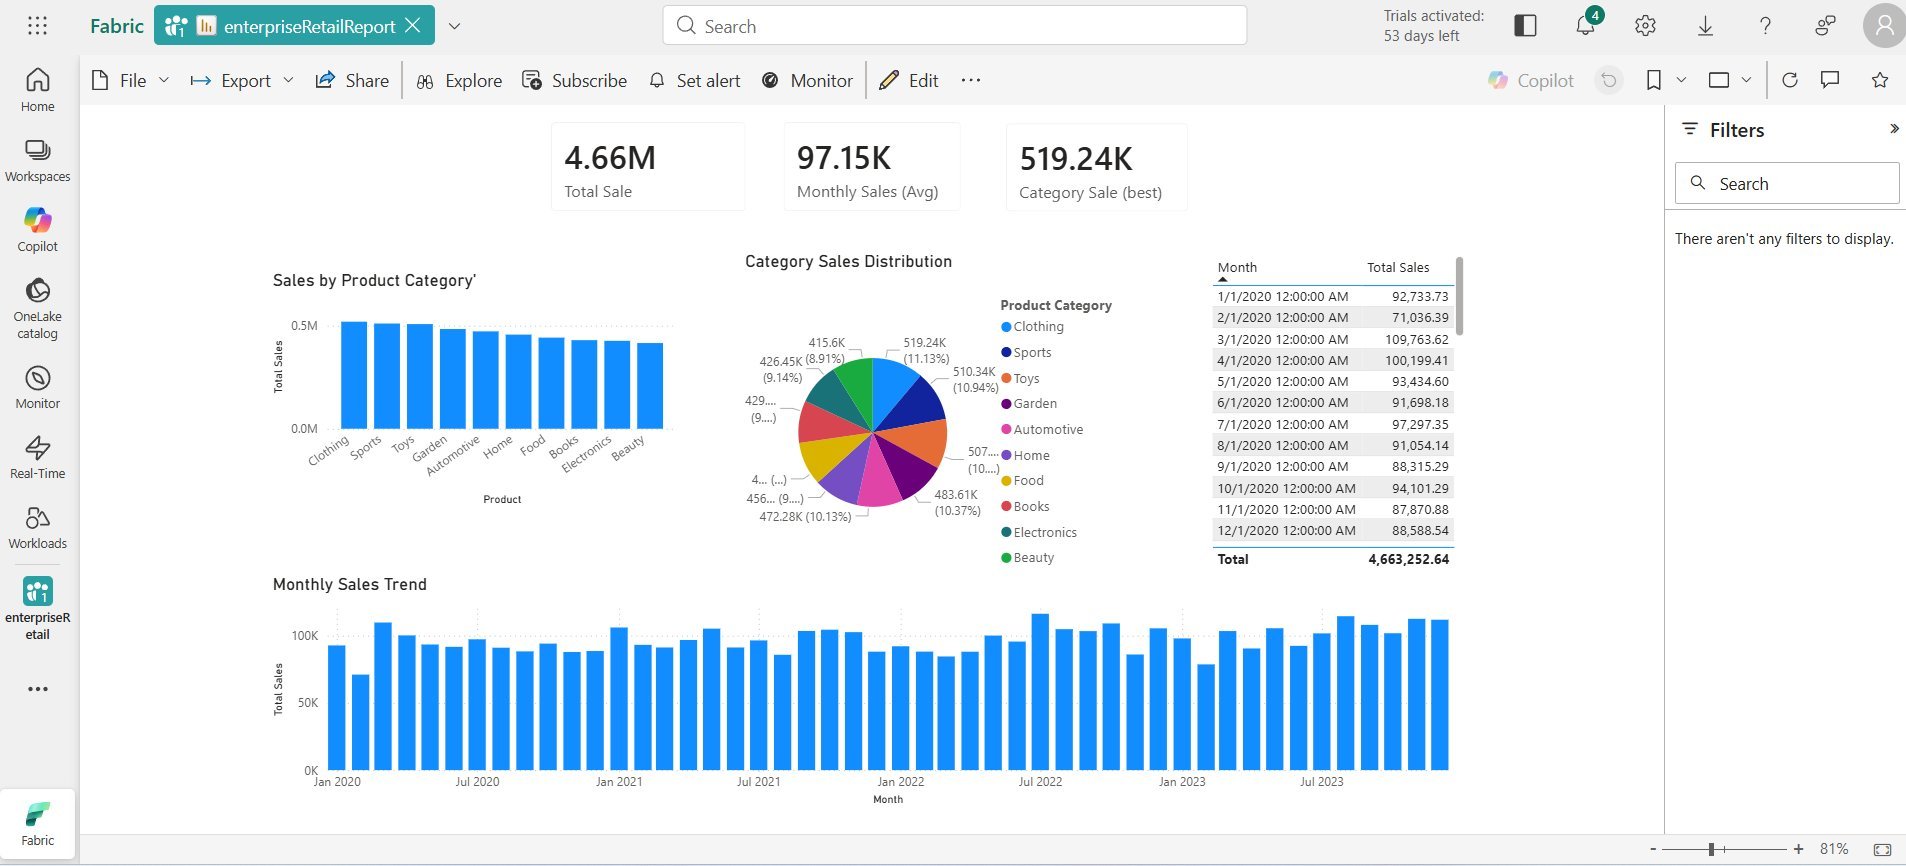

The page's visual inventory and layout, read from the dashboard file:
{"tool":"powerbi","page":{"name":"Page 1","canvas":[1280,720],"ordinal":0},"visuals":[{"type":"cardVisual","fields":{"Data":["Sum(category_sales.category_total_sales)"]},"box":[306.7,0,226.2,123],"z":0},{"type":"cardVisual","fields":{"Data":["monthly_sales.Avg Monthly Sales"]},"box":[535.7,0,209.7,122.7],"z":1},{"type":"cardVisual","fields":{"Data":["category_sales.Best Category Sales"]},"box":[755.6,1.3,214.8,121.5],"z":2},{"type":"pieChart","title":"Category Sales Distribution","fields":{"Category":["category_sales.product_category"],"Y":["Sum(category_sales.category_total_sales)"]},"box":[510.1,144.5,386.1,337.5],"z":3},{"type":"columnChart","title":"Monthly Sales Trend","fields":{"Category":["monthly_sales.sales_month"],"Y":["Sum(monthly_sales.monthly_total_sales)"]},"box":[43.5,462.8,1186.4,233.9],"z":4},{"type":"columnChart","title":"Sales by Product Category''","fields":{"Category":["category_sales.product_category"],"Y":["Sum(category_sales.category_total_sales)"]},"box":[43.5,162.4,409.1,237.8],"z":5},{"type":"tableEx","fields":{"Values":["monthly_sales.sales_month","Sum(monthly_sales.monthly_total_sales)"]},"box":[970.3,144.5,259.5,318.3],"z":6}]}

Visuals, with their boxes on the page's 1280x720 design canvas (x1, y1, x2, y2). These are canvas units, not pixel positions in the 1906x866 screenshot, which may show the page scaled, cropped or inside an application window:
cardVisual - Sum(category_sales.category_total_sales): (307,0,533,123)
cardVisual - monthly_sales.Avg Monthly Sales: (536,0,745,123)
cardVisual - category_sales.Best Category Sales: (756,1,970,123)
"Category Sales Distribution" pieChart: (510,144,896,482)
"Monthly Sales Trend" columnChart: (44,463,1230,697)
"Sales by Product Category''" columnChart: (44,162,453,400)
tableEx - monthly_sales.sales_month x Sum(monthly_sales.monthly_total_sales): (970,144,1230,463)
